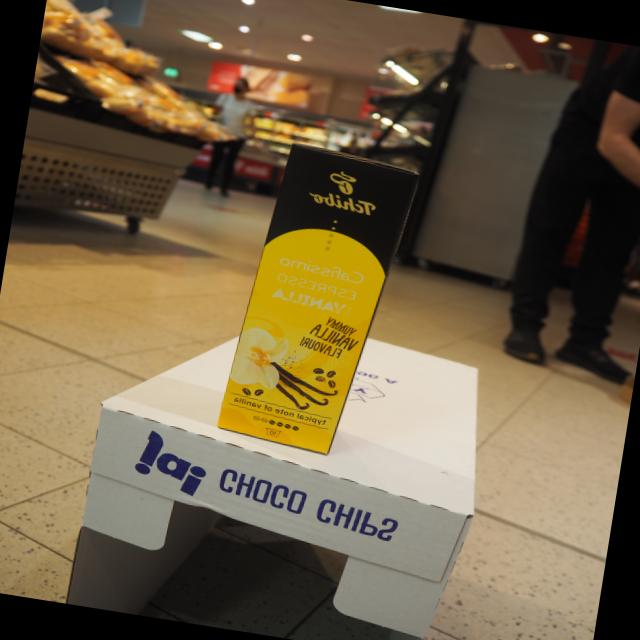Simo Es Vanilla: (214, 140, 430, 458)
